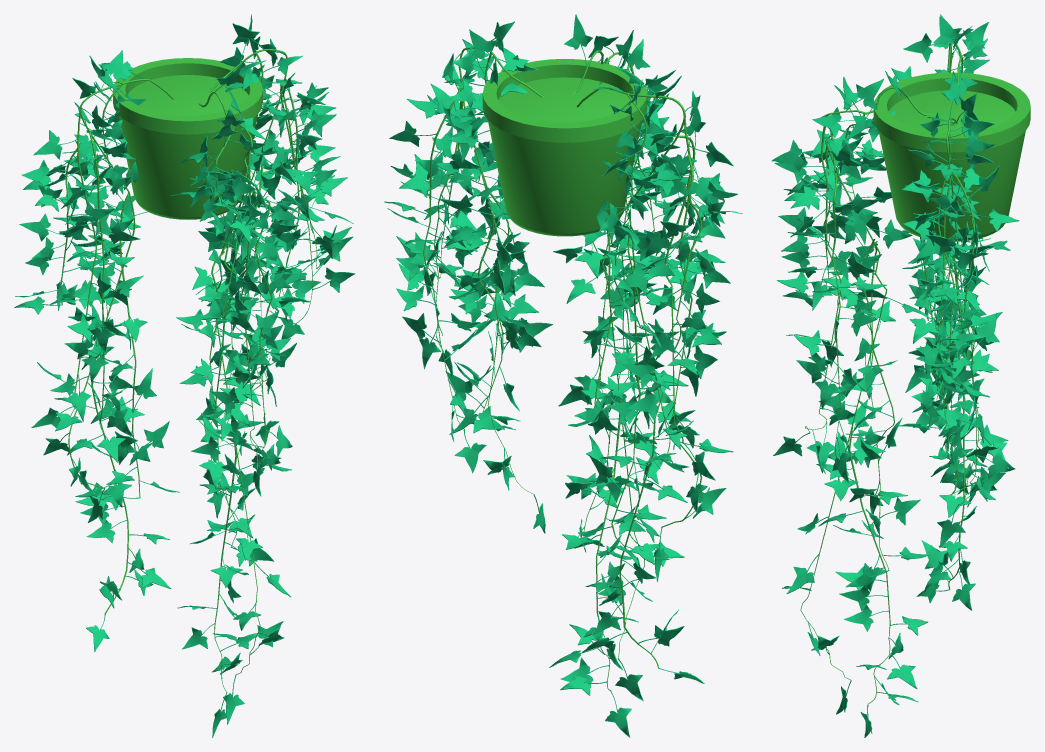
File: Ivy_pot.fbx
3 renders of one model, left to right at view 1: azimuth 30°, elevation 25°; view 2: azimuth 150°, elevation 25°; view 3: azimuth 270°, elevation 25°, orthographic. The views are drawn at different scales.
Visible parts, largest first — view 1: Branch_3, Branch_1, Branch_2, Ivy_pot; view 2: Branch_3, Branch_2, Ivy_pot, Branch_1; view 3: Branch_1, Branch_2, Ivy_pot, Branch_3.
Part boxes in pixels (x1,y1,x2,y2): Branch_3: (14, 50, 179, 651); Branch_1: (170, 64, 304, 737); Branch_2: (196, 14, 355, 494); Ivy_pot: (113, 58, 262, 219); Branch_3: (576, 66, 742, 683); Branch_2: (384, 21, 552, 533); Ivy_pot: (482, 59, 647, 236); Branch_1: (549, 14, 702, 737); Branch_1: (771, 71, 934, 737); Branch_2: (901, 71, 1019, 547); Ivy_pot: (873, 72, 1030, 241); Branch_3: (891, 14, 1010, 610).
Bounding box in the file's own units: 76.59 × 152 × 51.23.
